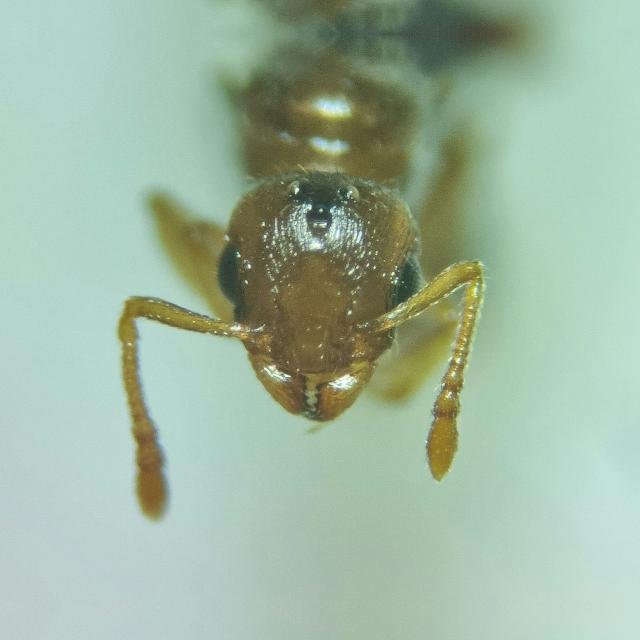Temnothorax: (94, 33, 586, 523)
